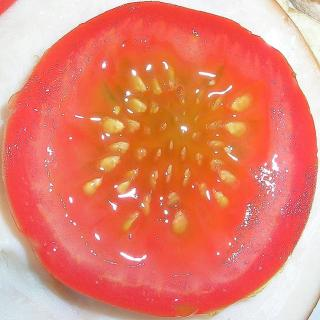tomato: (0, 0, 318, 319)
